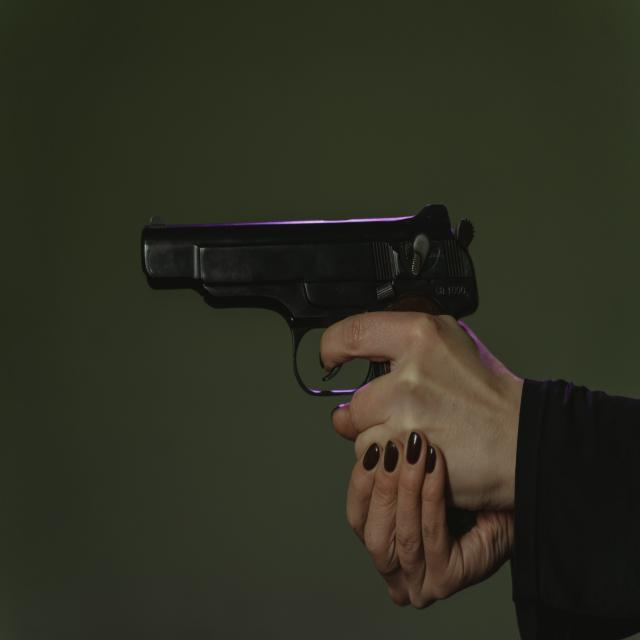HandGun: (140, 204, 479, 395)
